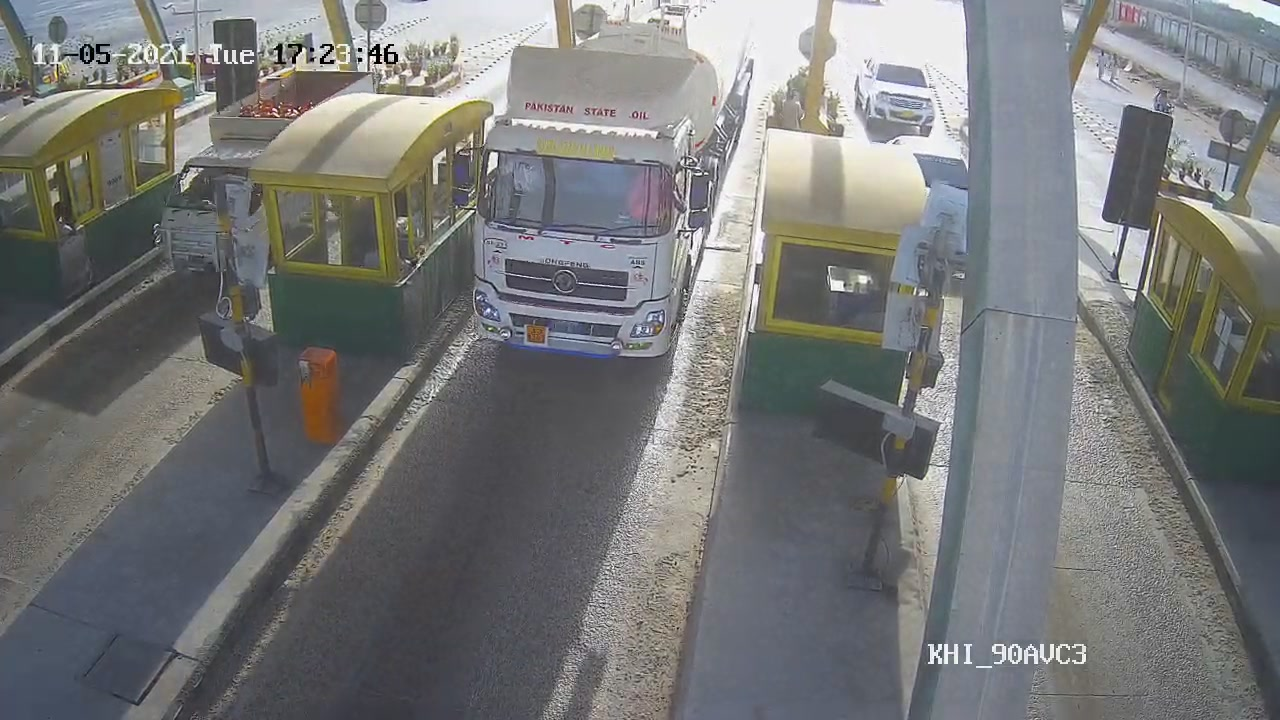F6: (465, 1, 760, 353)
